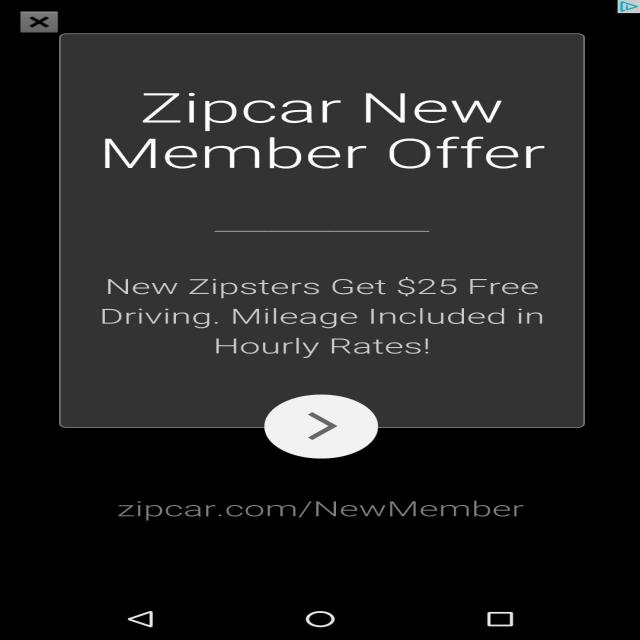button: (215, 386, 410, 456), (0, 2, 69, 36)
text: (60, 260, 553, 385), (28, 78, 576, 186), (42, 489, 550, 534)
